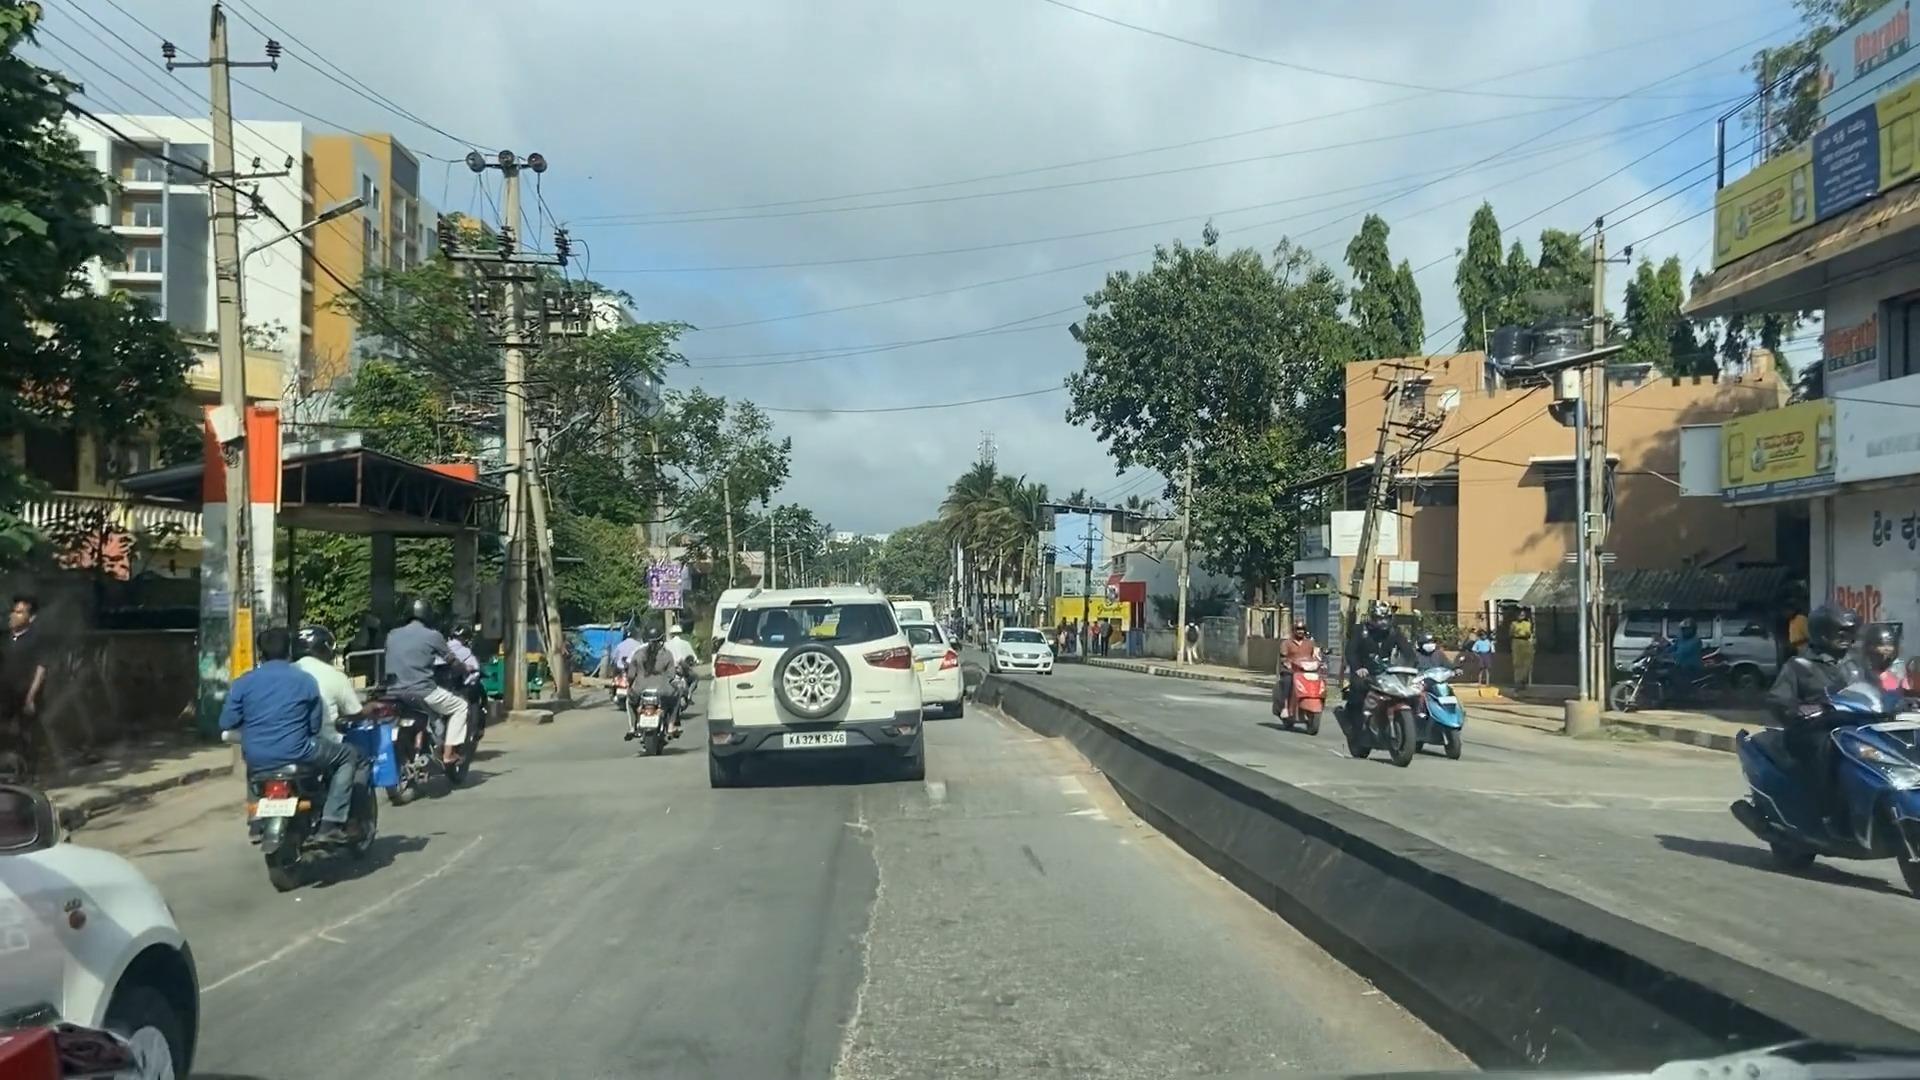LMV: (707, 588, 920, 770), (228, 634, 368, 861), (377, 612, 472, 787)
RoadDamages: (227, 825, 479, 1002), (814, 790, 886, 1080)
